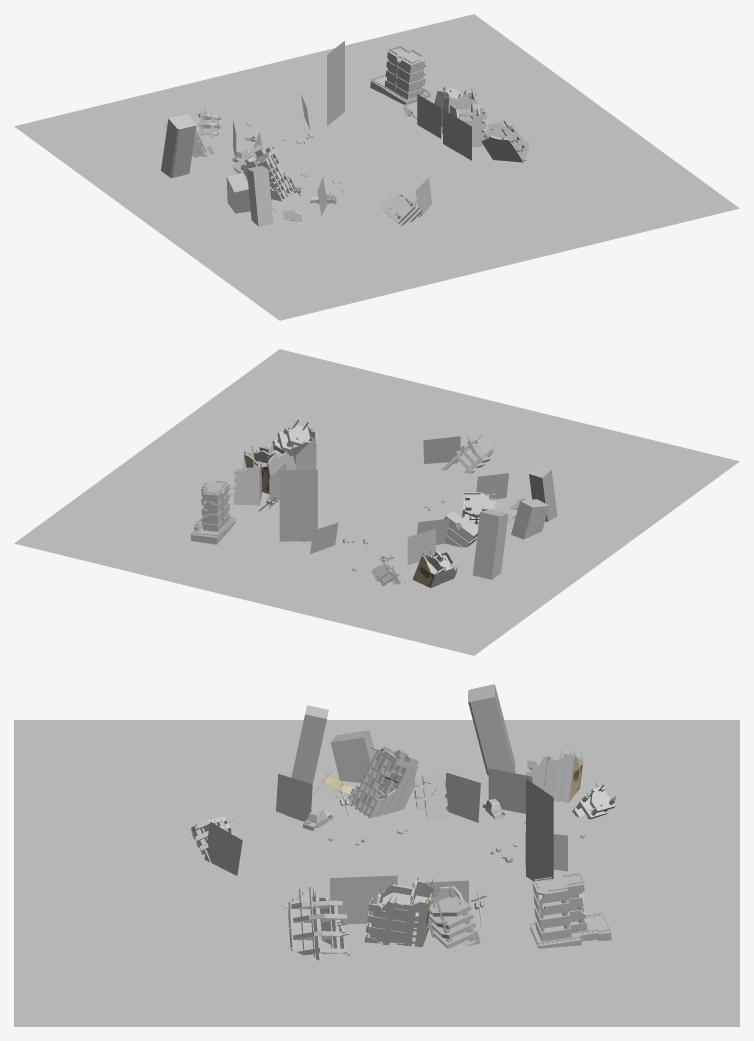
The model's file is Stage_1005_obj_01.fbx.
3 views of the same model, one above another, from view 1: azimuth 30°, elevation 25°; view 2: azimuth 150°, elevation 25°; view 3: azimuth 270°, elevation 25° (orthographic). The views are drawn at different scales.
Visible parts, largest first — view 1: Plane, Cube.017, Cube.104, Cube.086, Cube.266, Stage_1004_Tex_26, Cube.003, Cube, Layer 1.002, Cube.257, Cube.094, Layer 1.003; view 2: Plane, Stage_1004_Tex_26, Cube.104, Cube.017, Cube.003, Cube.170, Cube.223, Cube.094, Cube, Cube.086, Cube.114, Cube.257 (+6 smaller); view 3: Plane, Cube.017, Cube.003, Cube.266, Cube.086, Cube.104, Stage_1004_Tex_26, Cube.170, Layer 1.002, Cube.223, Cube.094, Cube (+9 smaller).
Boxes of the visible parts, x1,y1,x2,y2 form: Plane: (14,14,739,320); Cube.017: (370,45,430,104); Cube.104: (161,113,196,177); Cube.086: (481,120,529,162); Cube.266: (240,146,295,201); Stage_1004_Tex_26: (327,41,344,125); Cube.003: (442,88,486,147); Cube: (247,165,273,226); Layer 1.002: (443,109,471,160); Cube.257: (380,194,422,225); Cube.094: (226,172,250,213); Layer 1.003: (417,94,441,138); Plane: (14,349,739,655); Stage_1004_Tex_26: (279,469,317,541); Cube.104: (472,509,508,579); Cube.017: (190,480,235,544); Cube.003: (244,444,295,493); Cube.170: (229,457,261,505); Cube.223: (412,550,457,587); Cube.094: (511,499,548,539); Cube: (529,465,557,521); Cube.086: (267,419,317,464); Cube.114: (444,510,478,547); Cube.257: (441,435,494,473); Plane: (14,720,739,1026); Cube.017: (530,872,611,948); Cube.003: (364,877,434,946); Cube.266: (348,746,418,818); Cube.086: (281,887,351,960); Cube.104: (468,684,515,775); Stage_1004_Tex_26: (526,779,553,881); Cube.170: (427,884,480,948); Layer 1.002: (330,875,397,924); Cube.223: (526,749,583,802); Cube.094: (331,730,375,782); Cube: (291,705,328,783).
Bounding box in the file's own units: 1377 × 305 × 1377.
